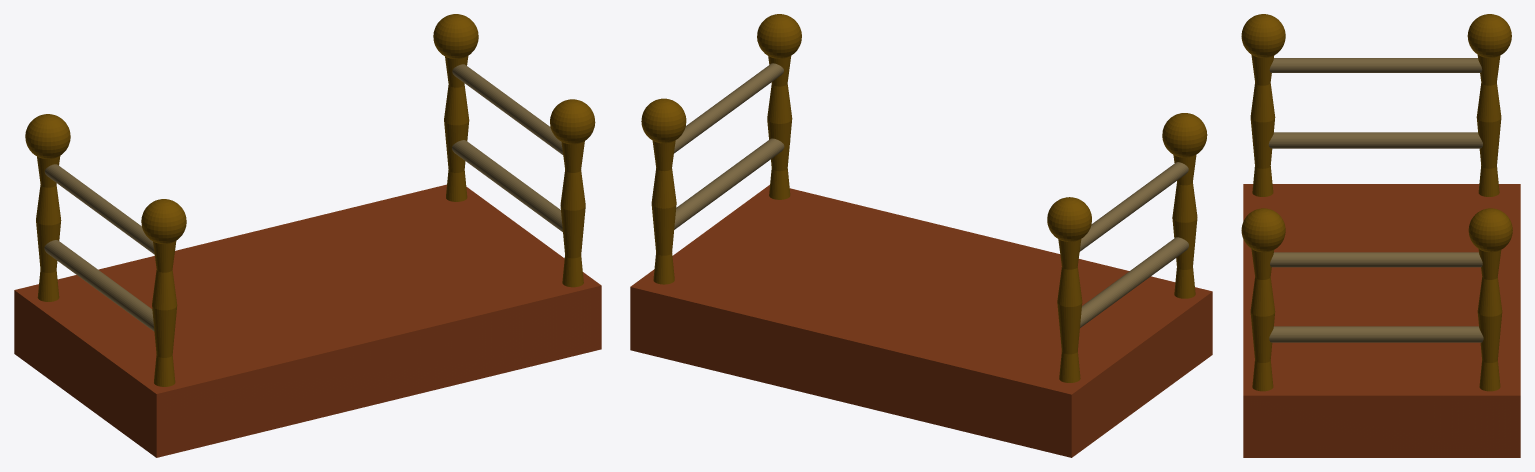
File: kaidan.fbx
3 views of the same model, side by side, from view 1: azimuth 30°, elevation 25°; view 2: azimuth 150°, elevation 25°; view 3: azimuth 270°, elevation 25° (orthographic). The views are drawn at different scales.
Parts seen in each view (by area): view 1: kaidan.001; view 2: kaidan.001; view 3: kaidan.001.
Boxes of the visible parts, x1,y1,x2,y2 form: kaidan.001: (14,14,601,457); kaidan.001: (630,14,1212,457); kaidan.001: (1241,14,1520,457).
Size of the model in its own units: 1468 by 767 by 813.
